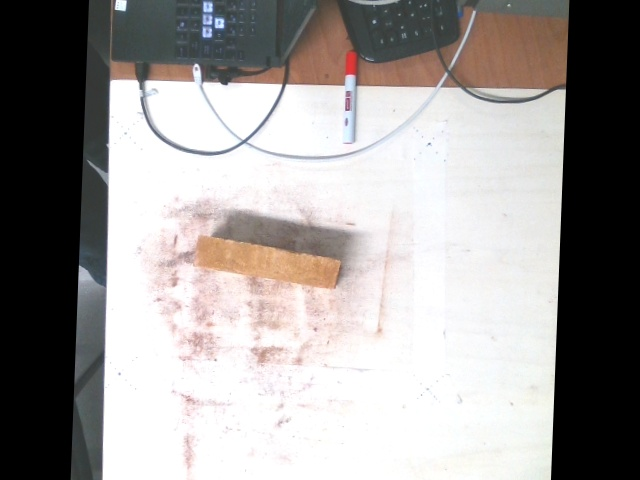brick-side: (193, 234, 336, 290)
